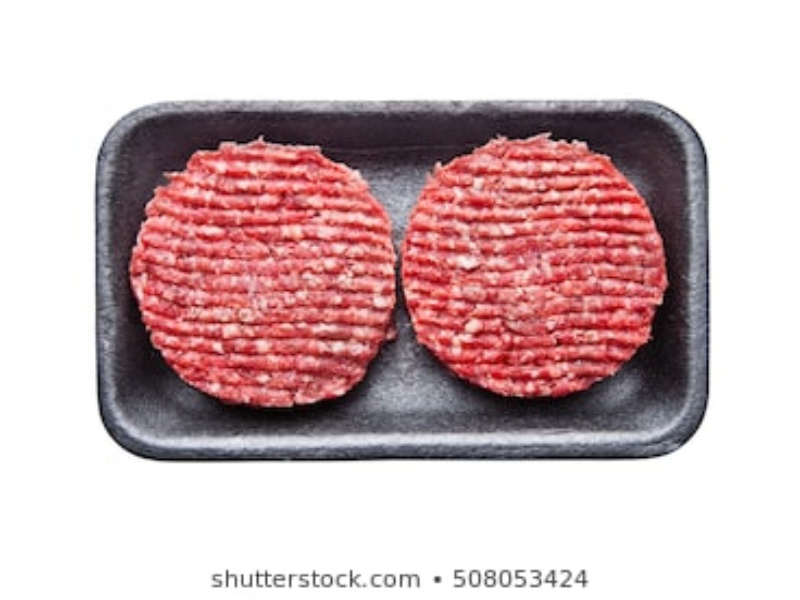plastic-tray: (90, 98, 708, 463)
